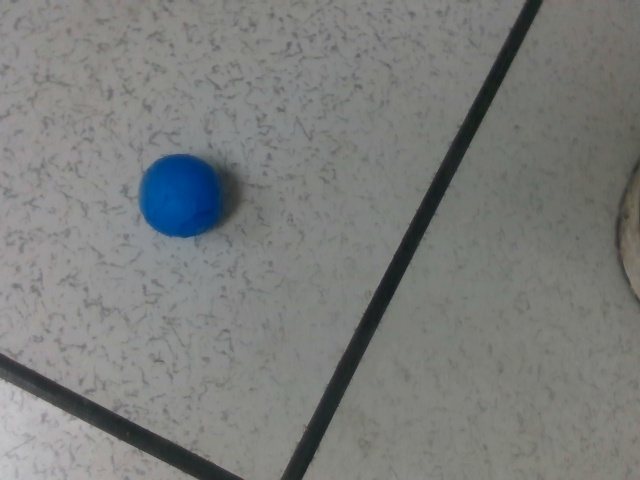blueball: (127, 150, 227, 239)
